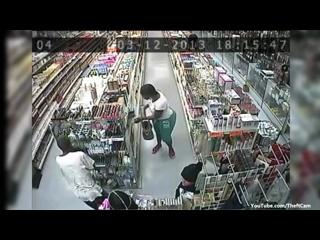Normal: (54, 134, 110, 210)
shoplifting: (134, 84, 177, 160)
